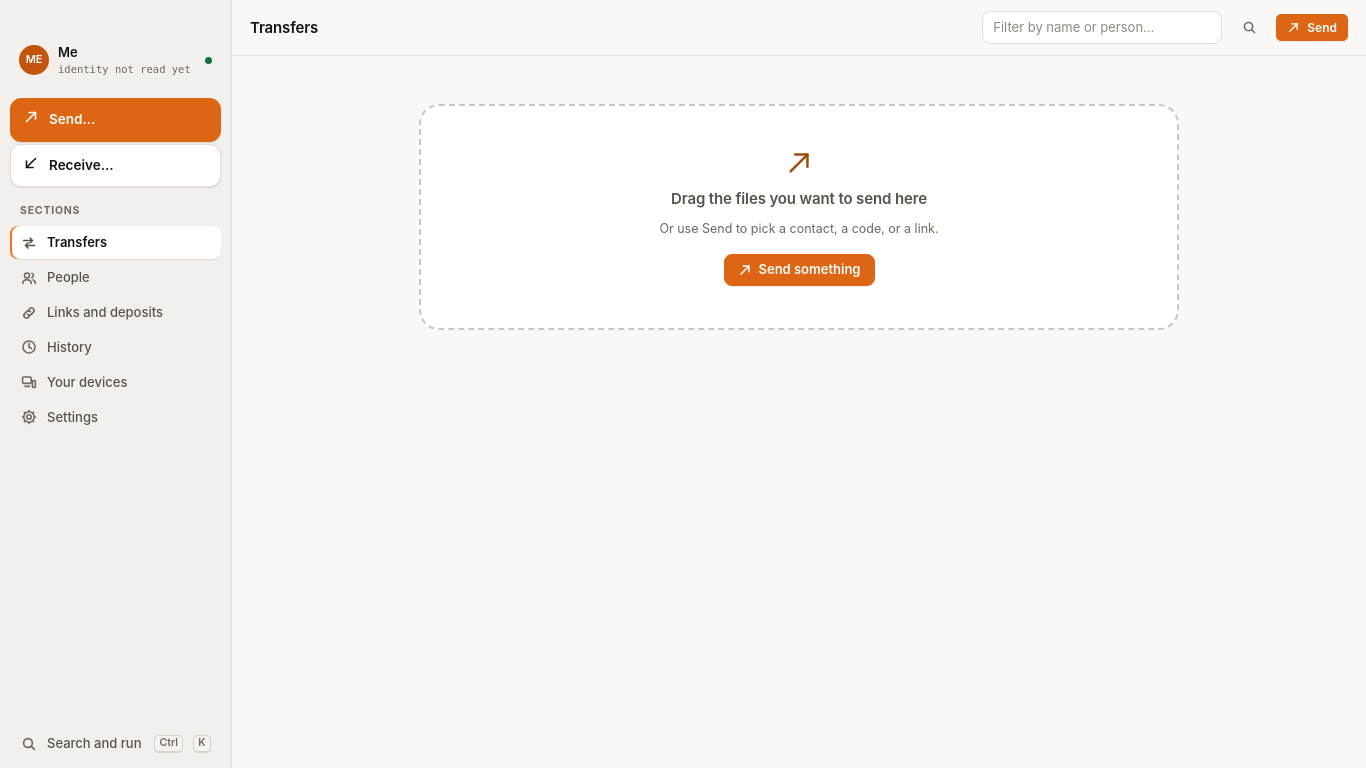
it: reaching the panel from the app › 159. the sidebar entry opens it and fetches what is out there
The width and height of the screenshot is (1366, 768).
What coordinates should you click on to do the following:
click the button "Links and deposits"
I would click on:
 (116, 312)
Its box is [10,296,221,329].
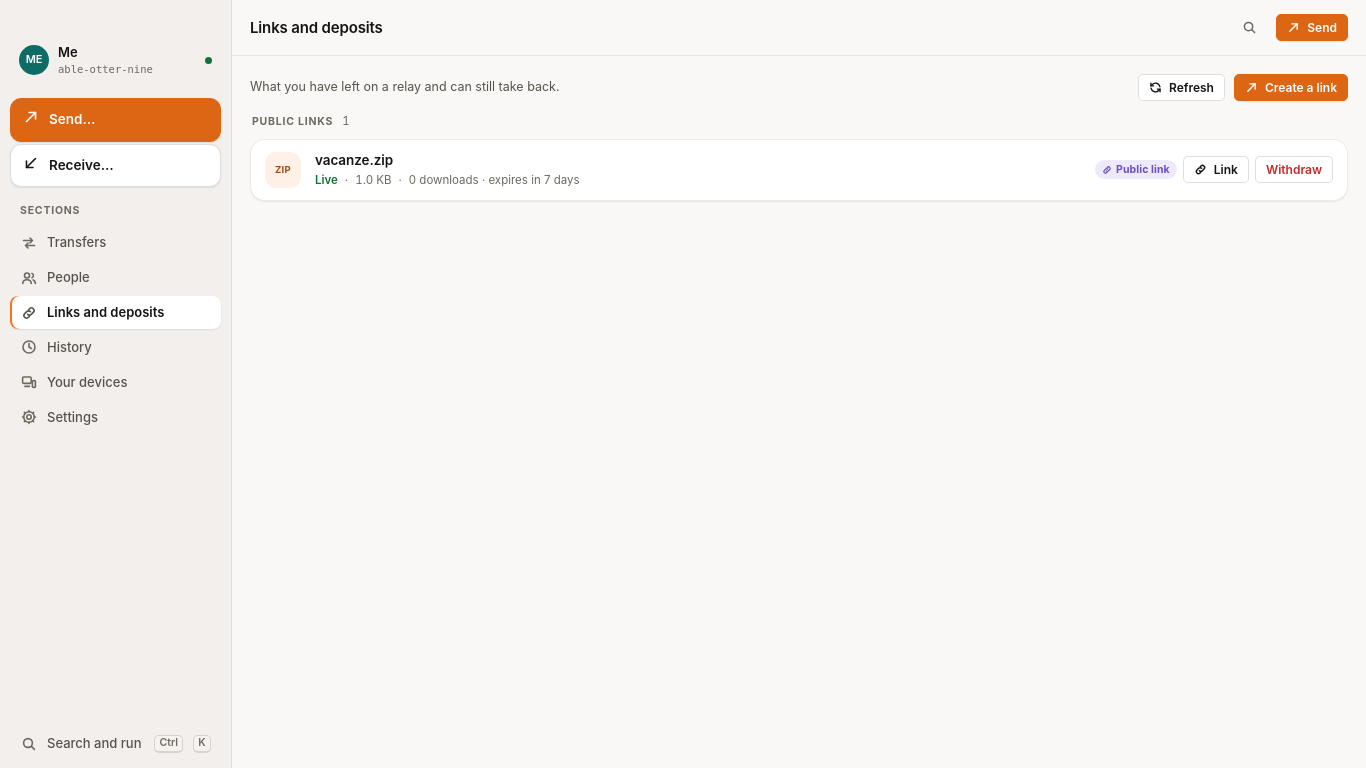
Expected: the text "vacanze.zip" is shown, [315,152,393,168]
